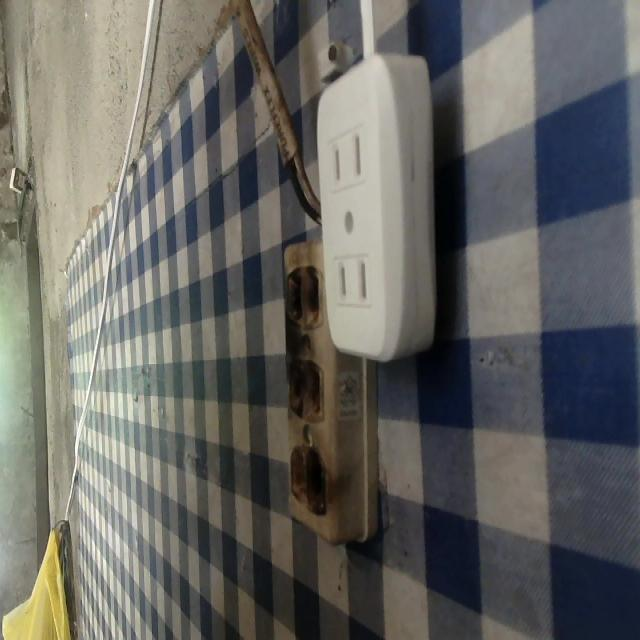-: (274, 443, 338, 517), (276, 258, 328, 334), (275, 354, 329, 422)
